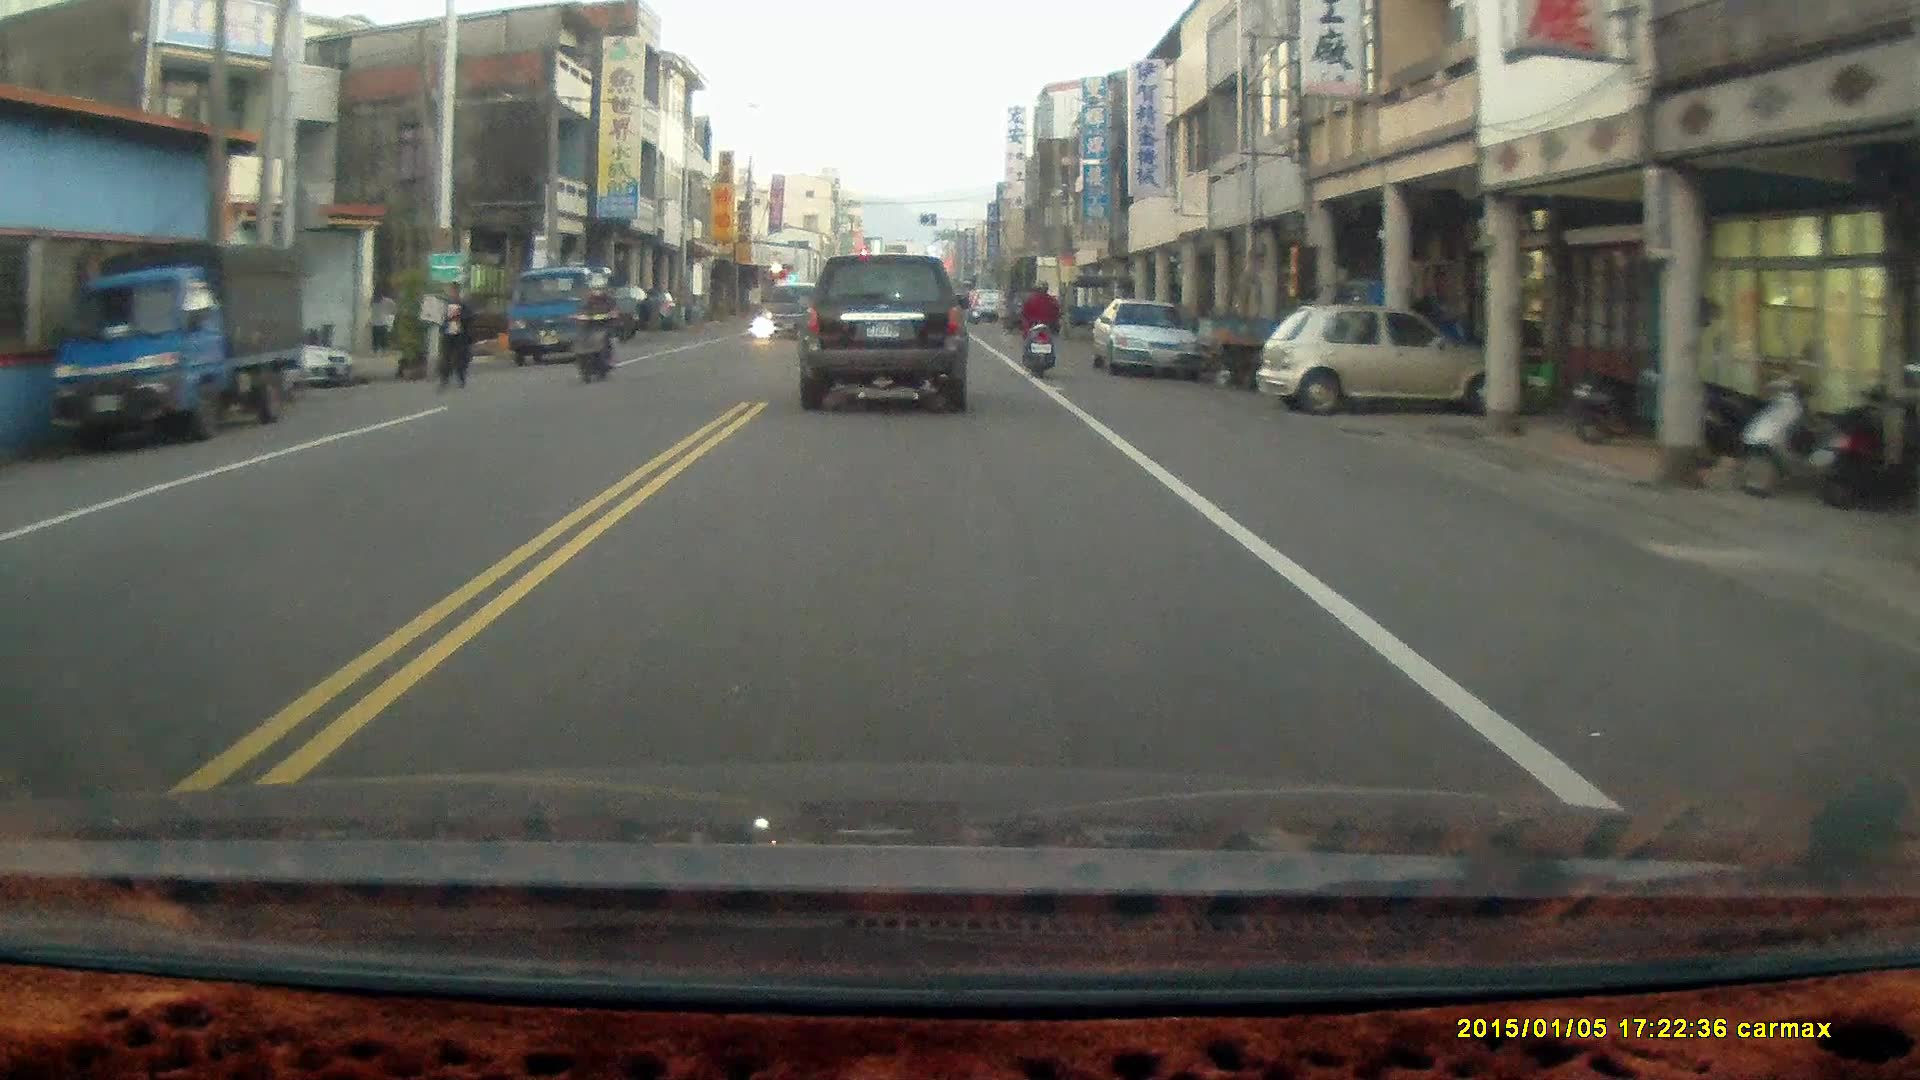pedestrian: (433, 275, 476, 393)
rider: (567, 277, 621, 384), (1019, 273, 1059, 373)
vehicle: (44, 240, 310, 452), (795, 250, 972, 414), (1260, 303, 1515, 412), (509, 264, 644, 362), (228, 317, 357, 391), (1093, 299, 1205, 378)
